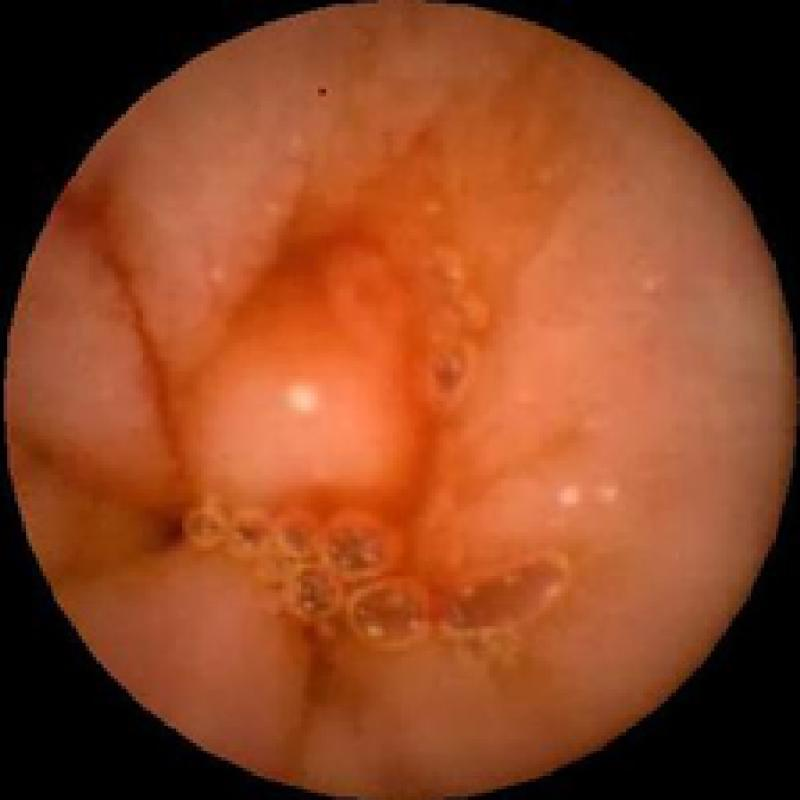bleeding: (160, 150, 461, 600)
